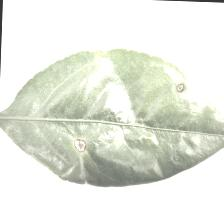canker: (53, 82, 198, 153)
